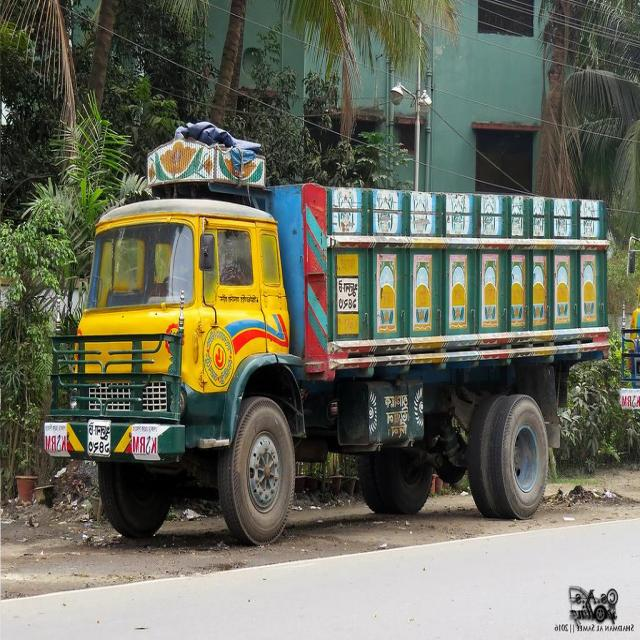truck: (42, 107, 617, 550)
